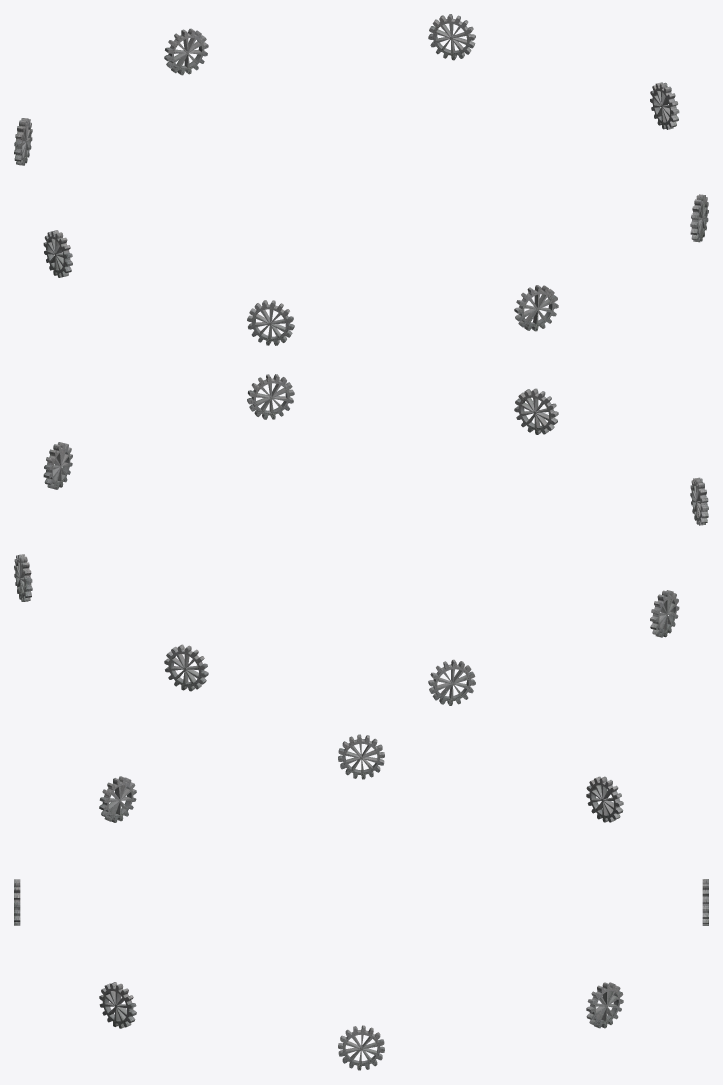
The picture shows the model from 3 angles, top to bottom: view 1: azimuth 30°, elevation 25°; view 2: azimuth 150°, elevation 25°; view 3: azimuth 270°, elevation 25°; orthographic projection.
Visible parts, largest first — view 1: 02_VZ; view 2: 02_VZ; view 3: 02_VZ.
Boxes of the visible parts, <box> form: 02_VZ: <box>14,14,708,345</box>; 02_VZ: <box>14,374,708,705</box>; 02_VZ: <box>14,734,708,1070</box>.
Bounding box in the file's own units: 2164 × 146 × 2164.
